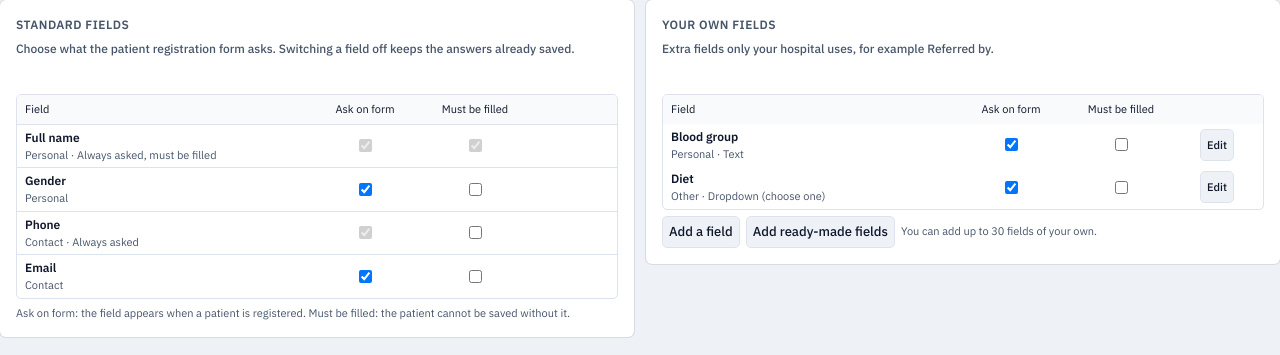
it: standard fields › a refusal shows its reason and the switch stays as it was
Step 1. Click the checkbox named "Gender: Ask on form" → click(365, 189), box [358,183,372,196]
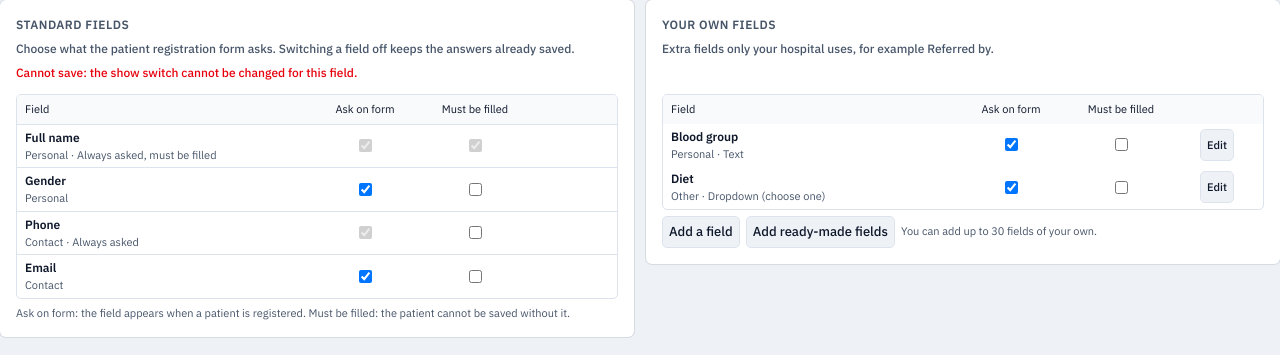
Check: the message "Cannot save: the show switch cannot be changed for this field." is shown, box [16,65,357,80]
